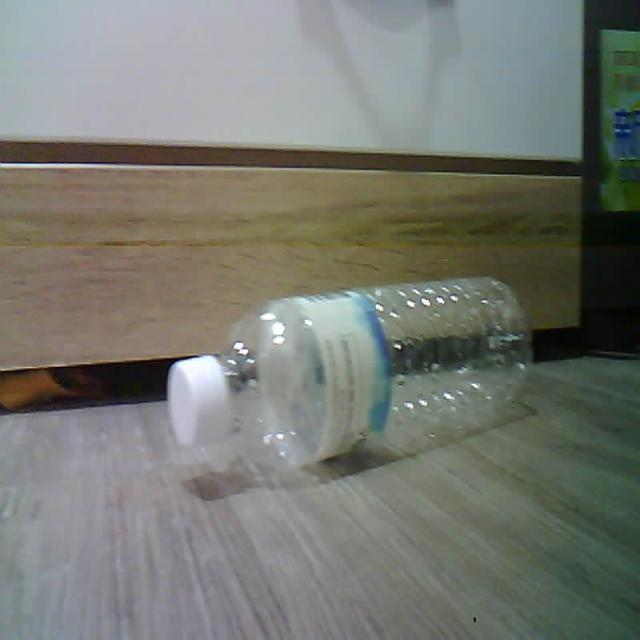bottle: (167, 276, 530, 469)
